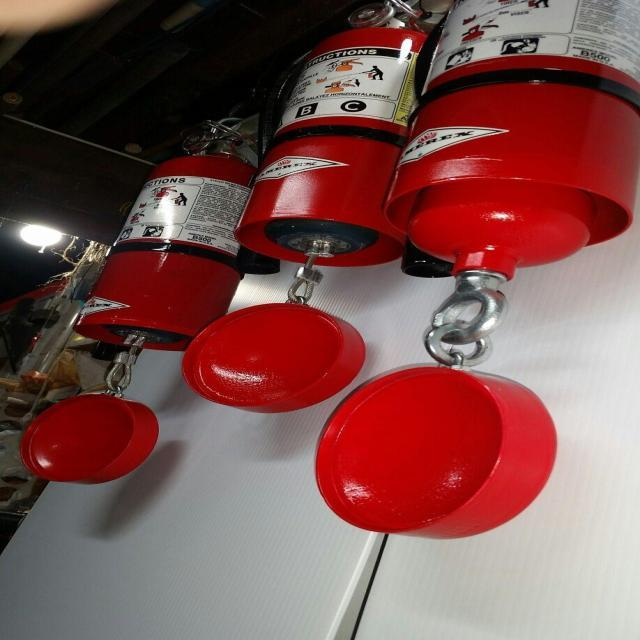fire_extinguisher: (372, 0, 640, 295), (220, 0, 460, 273), (68, 110, 286, 360)
